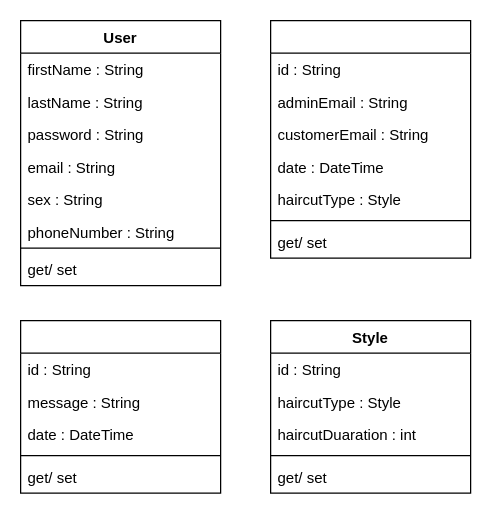
This 491x514 diagram has some shape labels left out. The box of each missing label's shape, as (x1, y1, x2, y2) in pixels:
Alert: (19, 319, 221, 493)
Appointment: (269, 19, 471, 258)
